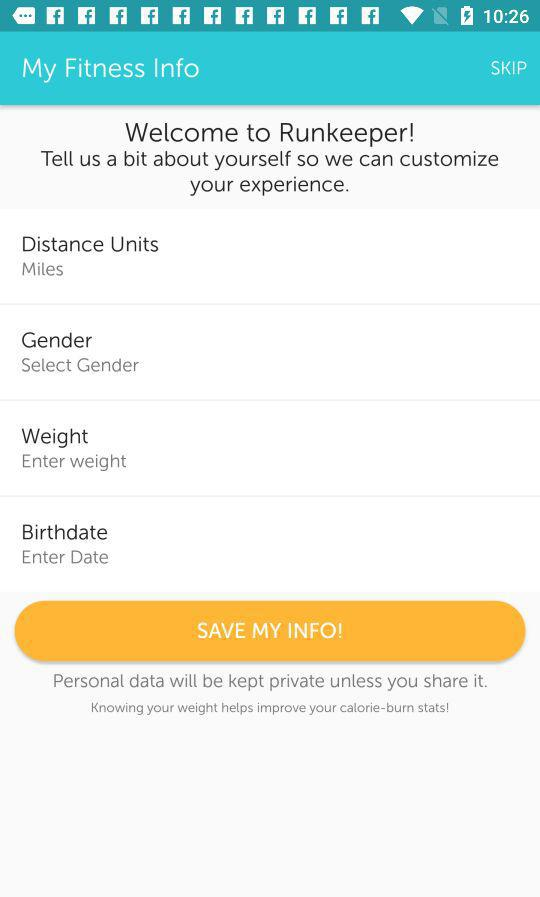Text: (41, 121, 499, 198), (53, 673, 489, 691), (91, 701, 450, 717), (23, 57, 201, 86), (23, 235, 160, 255), (22, 453, 128, 473), (22, 357, 141, 374), (23, 523, 109, 542), (22, 548, 110, 566), (22, 427, 90, 450), (22, 331, 94, 350), (22, 261, 66, 278), (490, 60, 528, 78)
TextButton: (15, 601, 527, 664)
Toolbar: (1, 32, 540, 106)
UpperTaskBar: (1, 1, 540, 33)
